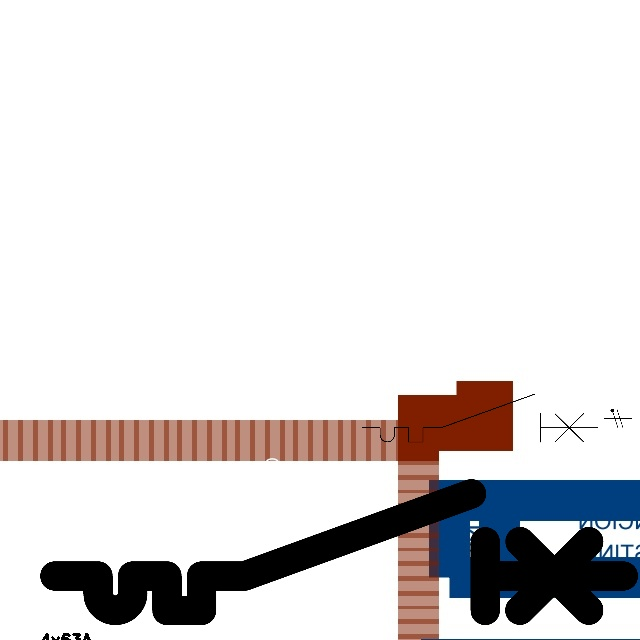interruptor_termomagnetico: (40, 479, 638, 625), (356, 388, 604, 448)
